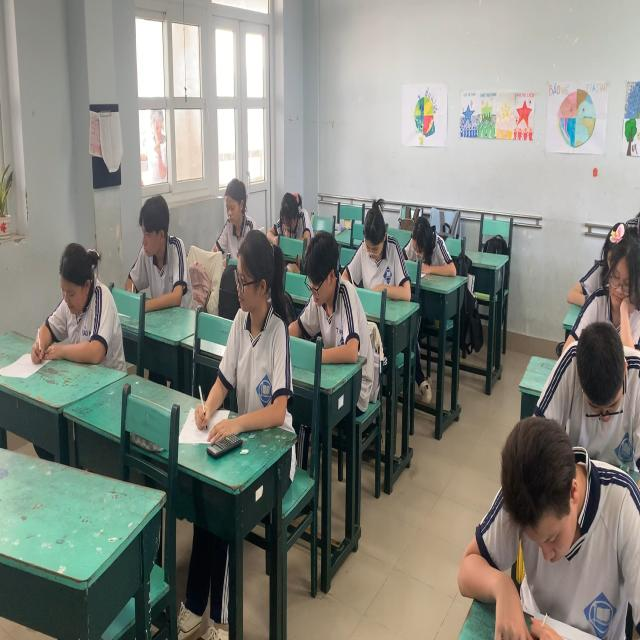not_cheating: (497, 416, 624, 629), (212, 226, 290, 430), (554, 325, 637, 452), (43, 239, 121, 366), (297, 218, 356, 362), (132, 192, 186, 308), (592, 217, 635, 346), (352, 191, 397, 300), (406, 208, 450, 286), (271, 178, 308, 251), (215, 176, 248, 252)
